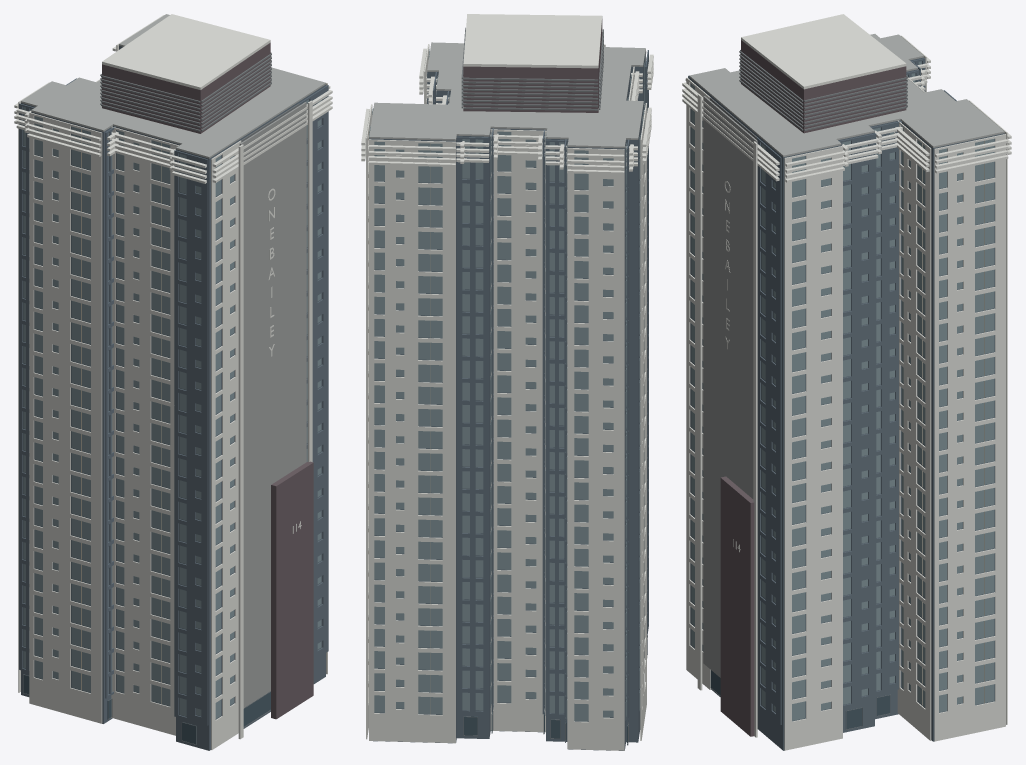
The model's file is bespoke-raemian-onebailey-114.glb.
The picture shows the model from 3 angles, left to right: view 1: azimuth 30°, elevation 25°; view 2: azimuth 150°, elevation 25°; view 3: azimuth 270°, elevation 25°; orthographic projection.
Parts seen in each view (by area): view 1: 114_pale_bays_navy_shafts001_4, 114_pale_bays_navy_shafts001, 114_pale_bays_navy_shafts001_3, 114_pale_bays_navy_shafts001_6, 114_editable_massing001, 114_glass_roof_crown001, 114_pale_bays_navy_shafts001_7, 114_glass_roof_crown001_2, 114_editable_massing001_1, 114_glass_roof_crown001_1, 114_pale_bays_navy_shafts001_1, 114_pale_bays_navy_shafts001_2; view 2: 114_pale_bays_navy_shafts001_4, 114_pale_bays_navy_shafts001, 114_pale_bays_navy_shafts001_3, 114_editable_massing001, 114_glass_roof_crown001, 114_glass_roof_crown001_2, 114_editable_massing001_1, 114_glass_roof_crown001_1, 114_pale_bays_navy_shafts001_2, 114_pale_bays_navy_shafts001_1; view 3: 114_pale_bays_navy_shafts001_4, 114_pale_bays_navy_shafts001, 114_pale_bays_navy_shafts001_3, 114_pale_bays_navy_shafts001_6, 114_editable_massing001, 114_glass_roof_crown001, 114_glass_roof_crown001_2, 114_pale_bays_navy_shafts001_7, 114_editable_massing001_1, 114_glass_roof_crown001_1, 114_pale_bays_navy_shafts001_2, 114_pale_bays_navy_shafts001_1.
Boxes of the visible parts, x1,y1,x2,y2 form: 114_pale_bays_navy_shafts001_4: [18, 15, 327, 749]; 114_pale_bays_navy_shafts001: [23, 100, 321, 718]; 114_pale_bays_navy_shafts001_3: [19, 78, 328, 725]; 114_pale_bays_navy_shafts001_6: [239, 102, 306, 707]; 114_editable_massing001: [21, 46, 325, 750]; 114_glass_roof_crown001: [14, 14, 332, 183]; 114_pale_bays_navy_shafts001_7: [271, 461, 313, 719]; 114_glass_roof_crown001_2: [21, 14, 325, 158]; 114_editable_massing001_1: [102, 42, 270, 133]; 114_glass_roof_crown001_1: [100, 52, 271, 131]; 114_pale_bays_navy_shafts001_1: [23, 674, 270, 744]; 114_pale_bays_navy_shafts001_2: [81, 129, 161, 703]; 114_pale_bays_navy_shafts001_4: [366, 44, 646, 750]; 114_pale_bays_navy_shafts001: [369, 49, 645, 721]; 114_pale_bays_navy_shafts001_3: [433, 50, 648, 724]; 114_editable_massing001: [369, 51, 645, 750]; 114_glass_roof_crown001: [361, 14, 653, 174]; 114_glass_roof_crown001_2: [369, 42, 645, 148]; 114_editable_massing001_1: [463, 19, 602, 112]; 114_glass_roof_crown001_1: [461, 27, 603, 110]; 114_pale_bays_navy_shafts001_2: [368, 79, 643, 714]; 114_pale_bays_navy_shafts001_1: [464, 640, 647, 745]; 114_pale_bays_navy_shafts001_4: [686, 35, 1007, 750]; 114_pale_bays_navy_shafts001: [691, 61, 994, 720]; 114_pale_bays_navy_shafts001_3: [688, 58, 956, 724]; 114_pale_bays_navy_shafts001_6: [703, 96, 757, 677]; 114_editable_massing001: [689, 57, 1004, 750]; 114_glass_roof_crown001: [682, 14, 1011, 182]; 114_glass_roof_crown001_2: [689, 34, 1004, 157]; 114_pale_bays_navy_shafts001_7: [720, 476, 754, 736]; 114_editable_massing001_1: [741, 40, 906, 133]; 114_glass_roof_crown001_1: [739, 50, 907, 130]; 114_pale_bays_navy_shafts001_2: [922, 140, 984, 705]; 114_pale_bays_navy_shafts001_1: [710, 670, 890, 729].
Size of the model in its own units: 36.37 by 85.15 by 39.62.
